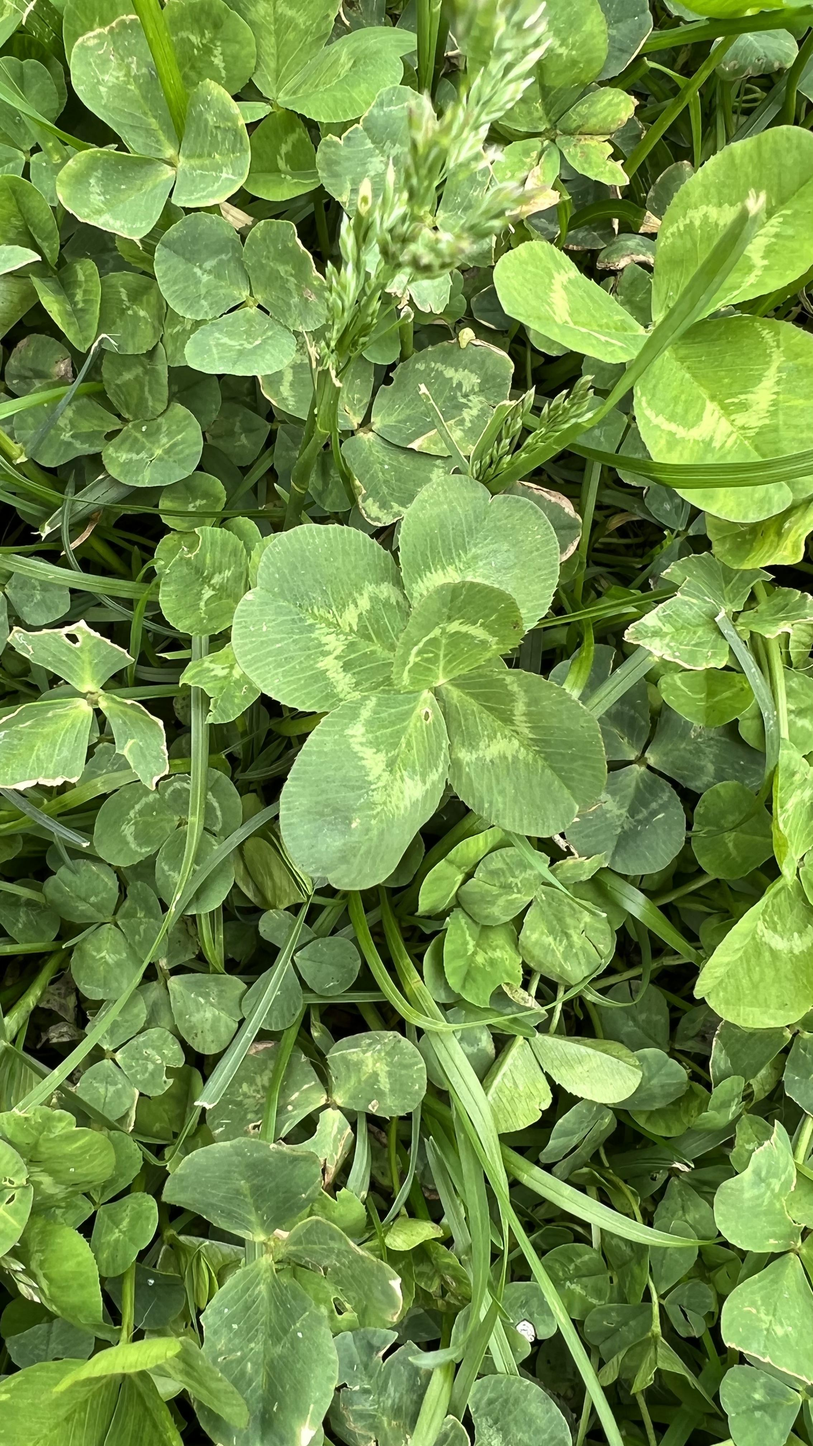5-Leaf-Clovers: (243, 470, 606, 886)
